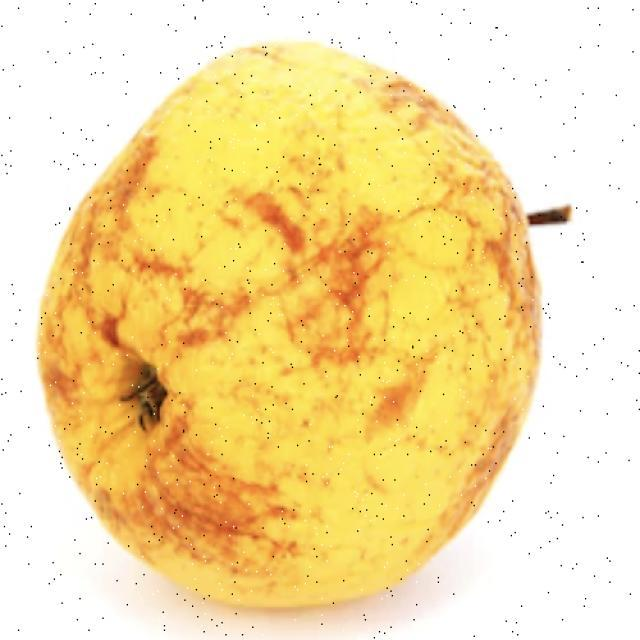Rotten: (72, 57, 528, 605)
